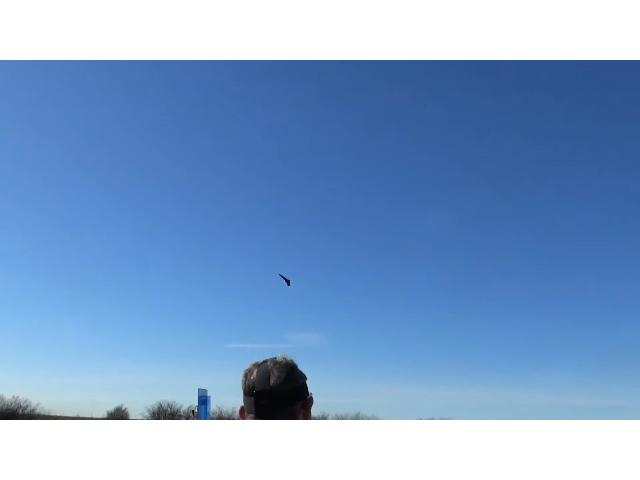Anti-Drone: (268, 263, 308, 301)
